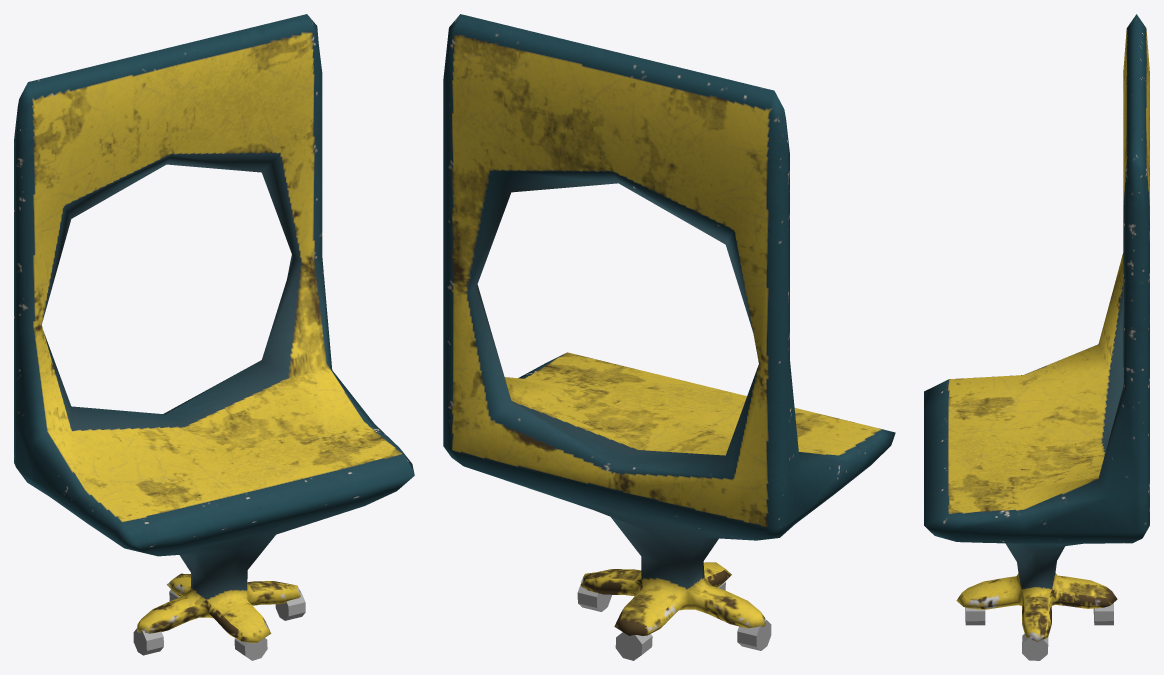
The model's file is Finalisima.fbx.
3 renders of one model, left to right at view 1: azimuth 30°, elevation 25°; view 2: azimuth 150°, elevation 25°; view 3: azimuth 270°, elevation 25°, orthographic. The views are drawn at different scales.
Visible parts, largest first — view 1: pCube100, pCylinder1; view 2: pCube100, pCylinder3, pCylinder1; view 3: pCube100, pCylinder2, pCylinder3, pCylinder4.
Boxes of the visible parts, x1=… form: pCube100: x1=14, y1=14, x2=414, y2=643; pCylinder1: x1=133, y1=628, x2=163, y2=655; pCube100: x1=443, y1=14, x2=895, y2=635; pCylinder3: x1=615, y1=632, x2=652, y2=660; pCylinder1: x1=737, y1=619, x2=771, y2=650; pCube100: x1=924, y1=14, x2=1149, y2=641; pCylinder2: x1=1022, y1=634, x2=1048, y2=660; pCylinder3: x1=1093, y1=603, x2=1113, y2=625; pCylinder4: x1=965, y1=607, x2=985, y2=625.
Size of the model in its own units: 9.6 by 16.53 by 6.25.
